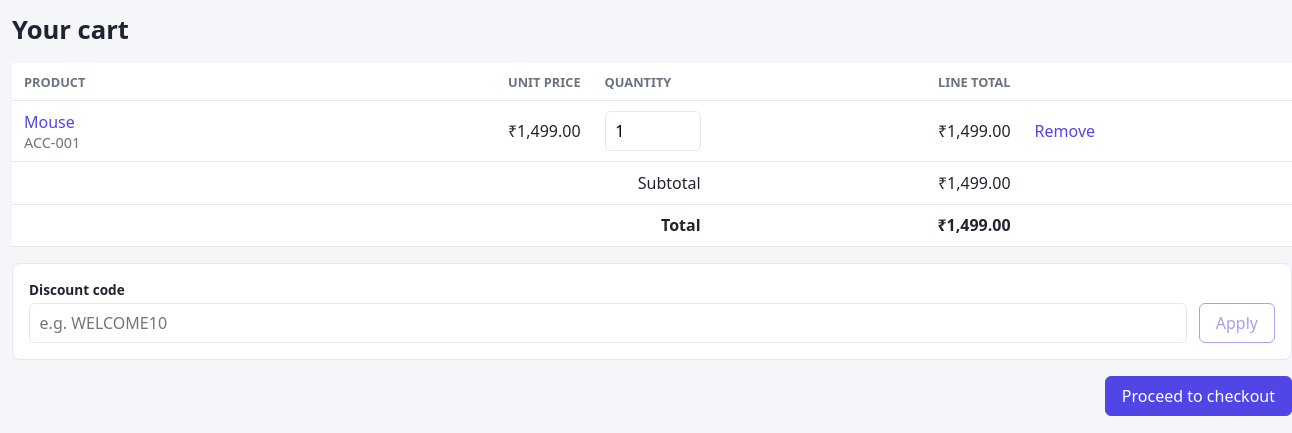
Test: CartComponent › updates the quantity and shows the re-priced total
The width and height of the screenshot is (1292, 433).
Replace the text in the number field named "Quantity for Mouse" with "3": (653, 131) left=605, top=111, right=701, bottom=151
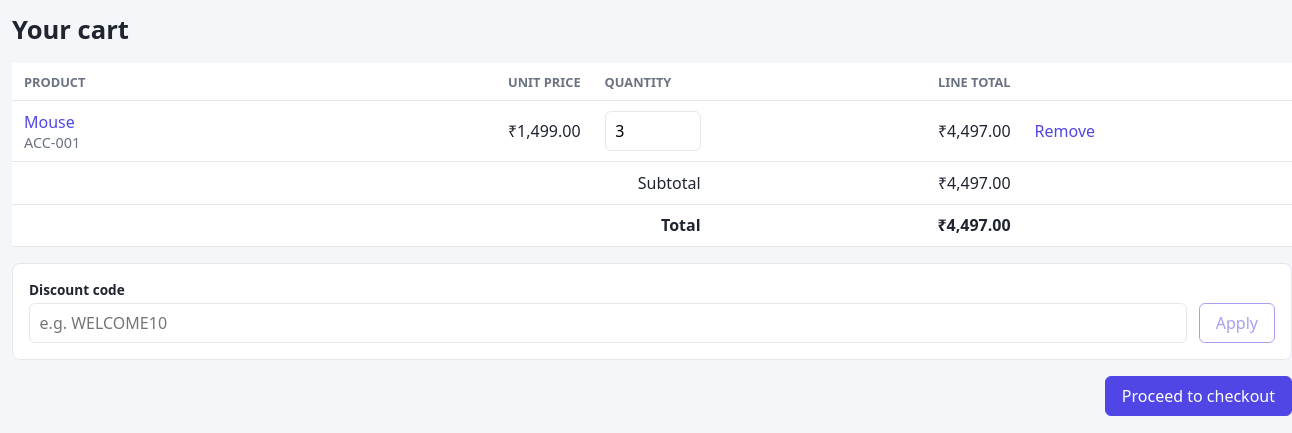
Now the text "4,497.00" is shown, box left=938, top=120, right=1011, bottom=142
